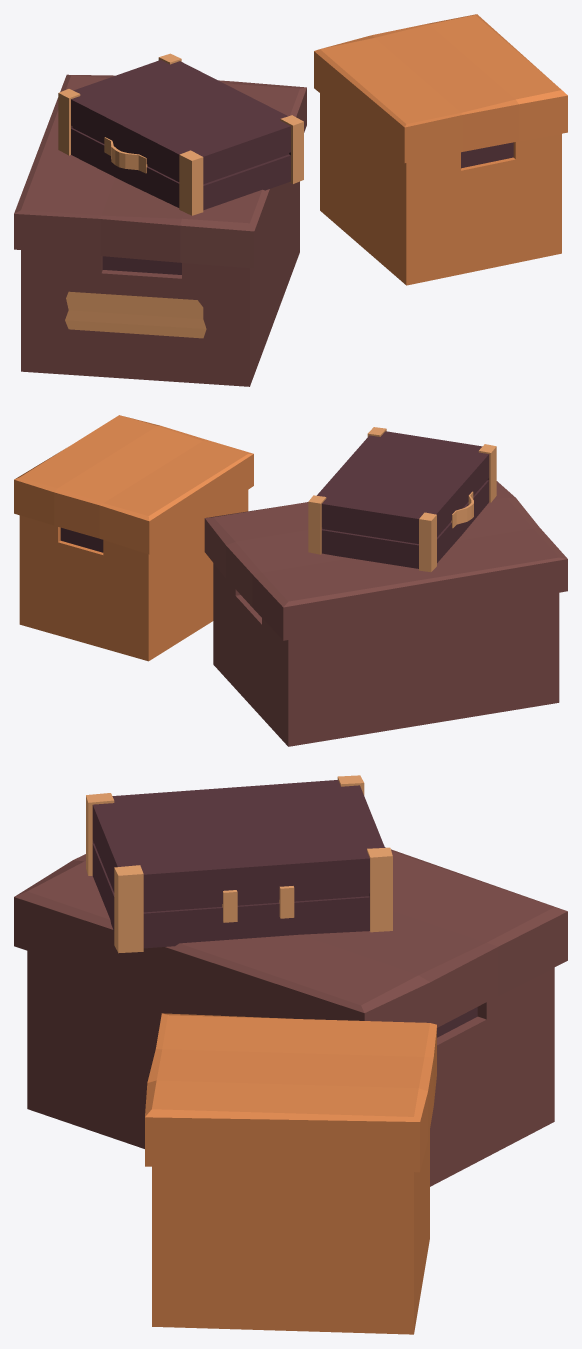
File: caixas 1.fbx
3 views of the same model, one above another, from view 1: azimuth 30°, elevation 25°; view 2: azimuth 150°, elevation 25°; view 3: azimuth 270°, elevation 25° (orthographic). The views are drawn at different scales.
Parts seen in each view (by area): view 1: Cube.102, Cube.101, Plane.016; view 2: Cube.101, Cube.102, Plane.016; view 3: Cube.101, Cube.102, Plane.016.
Boxes of the visible parts, bbox=[...] form: Cube.102: bbox=[314, 14, 567, 285]; Cube.101: bbox=[14, 74, 306, 386]; Plane.016: bbox=[58, 53, 303, 215]; Cube.101: bbox=[204, 481, 567, 746]; Cube.102: bbox=[14, 415, 253, 661]; Plane.016: bbox=[308, 427, 496, 572]; Cube.101: bbox=[14, 847, 567, 1186]; Cube.102: bbox=[145, 1013, 436, 1334]; Plane.016: bbox=[86, 775, 392, 953].
Size of the model in its own units: 161 by 62.57 by 108.
